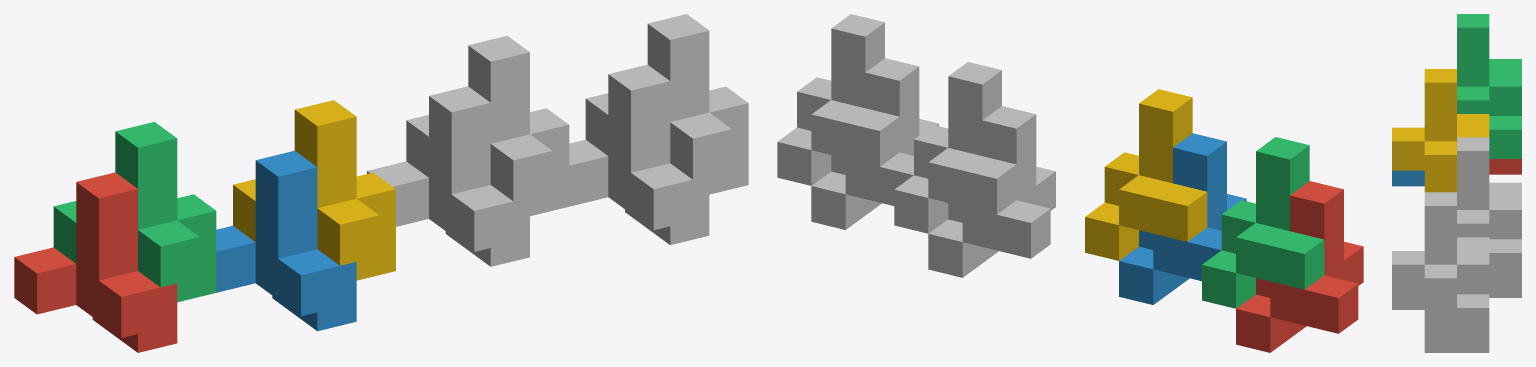
File: tiling.obj
3 views of the same model, side by side, from view 1: azimuth 30°, elevation 25°; view 2: azimuth 150°, elevation 25°; view 3: azimuth 270°, elevation 25° (orthographic). The views are drawn at different scales.
Visible parts, largest first — view 1: copy_1_domain_1, copy_1_domain_2, copy_1_domain_6, copy_1_domain_5, copy_1_domain_3, copy_1_domain_8, copy_1_domain_7, copy_1_domain_4; view 2: copy_1_domain_8, copy_1_domain_7, copy_1_domain_3, copy_1_domain_4, copy_1_domain_5, copy_1_domain_1, copy_1_domain_6, copy_1_domain_2; view 3: copy_1_domain_8, copy_1_domain_7, copy_1_domain_3, copy_1_domain_4, copy_1_domain_6, copy_1_domain_2, copy_1_domain_1, copy_1_domain_5.
Boxes of the visible parts, x1,y1,x2,y2 form: copy_1_domain_1: [14, 172, 177, 352]; copy_1_domain_2: [216, 150, 356, 331]; copy_1_domain_6: [569, 64, 709, 244]; copy_1_domain_5: [367, 86, 529, 266]; copy_1_domain_3: [53, 122, 216, 302]; copy_1_domain_8: [585, 14, 748, 194]; copy_1_domain_7: [406, 35, 569, 216]; copy_1_domain_4: [233, 100, 395, 280]; copy_1_domain_8: [777, 14, 899, 185]; copy_1_domain_7: [894, 62, 1016, 233]; copy_1_domain_3: [1202, 137, 1324, 308]; copy_1_domain_4: [1085, 89, 1207, 260]; copy_1_domain_5: [928, 106, 1055, 277]; copy_1_domain_1: [1236, 181, 1363, 352]; copy_1_domain_6: [811, 58, 938, 229]; copy_1_domain_2: [1119, 133, 1246, 304]; copy_1_domain_8: [1392, 192, 1489, 337]; copy_1_domain_7: [1457, 137, 1521, 282]; copy_1_domain_3: [1457, 14, 1521, 158]; copy_1_domain_4: [1392, 69, 1489, 192]; copy_1_domain_6: [1392, 294, 1489, 352]; copy_1_domain_2: [1392, 170, 1424, 186]; copy_1_domain_1: [1489, 159, 1521, 174]; copy_1_domain_5: [1489, 282, 1521, 297].
Size of the model in its own units: 17 by 5 by 4.
